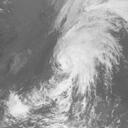cyclone: (51, 30, 101, 83)
